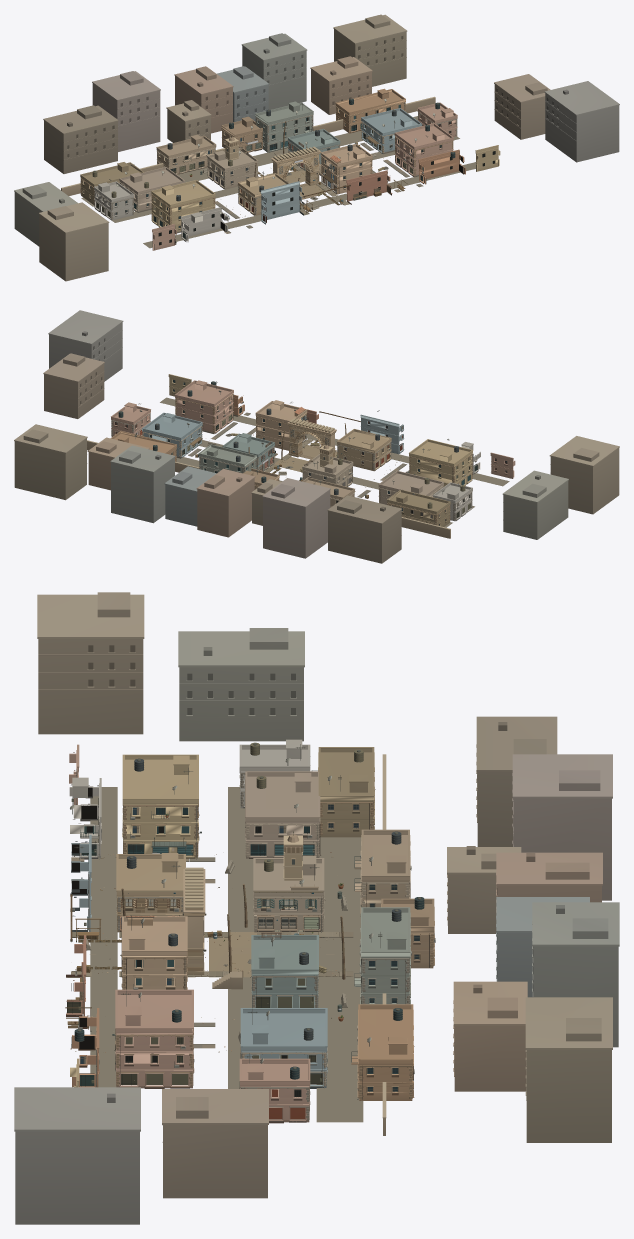
The model's file is north.glb.
3 views of the same model, one above another, from view 1: azimuth 30°, elevation 25°; view 2: azimuth 150°, elevation 25°; view 3: azimuth 270°, elevation 25° (orthographic). The views are drawn at different scales.
Visible parts, largest first — view 1: ML_north_skyline, ML_north_skyline.012, ML_north_skyline.010, ML_north_plaster, ML_north_skyline.005, ML_north_skyline.009, ML_north_skyline.006, ML_north_plaster.003, ML_north_plaster.002, ML_north_plaster.001, ML_north_plaster.005, ML_north_plaster.004 (+11 smaller); view 2: ML_north_skyline, ML_north_skyline.010, ML_north_skyline.012, ML_north_skyline.005, ML_north_skyline.009, ML_north_skyline.006, ML_north_plaster, ML_north_plaster.002, ML_north_plaster.003, ML_north_plaster.001, ML_north_plaster.004, ML_north_plaster.005 (+9 smaller); view 3: ML_north_skyline.012, ML_north_skyline.010, ML_north_skyline, ML_north_skyline.009, ML_north_road.001, ML_north_plaster.005, ML_north_plaster.003, ML_north_plaster.004, ML_north_road, ML_north_skyline.006, ML_north_plaster.001, ML_north_skyline.005 (+17 smaller).
Boxes of the visible parts, x1,y1,x2,y2 form: ML_north_skyline: (43, 71, 160, 173); ML_north_skyline.012: (494, 74, 619, 162); ML_north_skyline.010: (14, 182, 109, 281); ML_north_plaster: (224, 141, 387, 220); ML_north_skyline.005: (174, 66, 269, 133); ML_north_skyline.009: (333, 14, 407, 86); ML_north_skyline.006: (241, 33, 358, 109); ML_north_plaster.003: (203, 102, 340, 176); ML_north_plaster.002: (320, 117, 459, 193); ML_north_plaster.001: (137, 168, 274, 237); ML_north_plaster.005: (288, 89, 435, 153); ML_north_plaster.004: (61, 134, 226, 195); ML_north_skyline: (262, 478, 402, 563); ML_north_skyline.010: (502, 436, 619, 539); ML_north_skyline.012: (43, 310, 123, 418); ML_north_skyline.005: (164, 466, 272, 537); ML_north_skyline.009: (14, 424, 87, 500); ML_north_skyline.006: (96, 441, 175, 523); ML_north_plaster: (239, 401, 399, 482); ML_north_plaster.002: (163, 380, 284, 449); ML_north_plaster.003: (199, 437, 352, 489); ML_north_plaster.001: (345, 424, 473, 486); ML_north_plaster.004: (305, 462, 450, 538); ML_north_plaster.005: (87, 416, 239, 472); ML_north_skyline.012: (14, 1087, 268, 1224); ML_north_skyline.010: (37, 592, 304, 741); ML_north_skyline: (476, 716, 612, 900); ML_north_skyline.009: (525, 997, 612, 1142); ML_north_road.001: (78, 787, 254, 1088); ML_north_plaster.005: (241, 932, 413, 1135); ML_north_plaster.003: (251, 834, 434, 997); ML_north_plaster.004: (245, 754, 410, 910); ML_north_road: (316, 837, 363, 1122); ML_north_skyline.006: (487, 902, 619, 1047); ML_north_plaster.001: (70, 754, 279, 900); ML_north_skyline.005: (481, 852, 602, 997).
Size of the model in its own units: 192 by 19.08 by 92.31.
91 materials, 44 textured.
